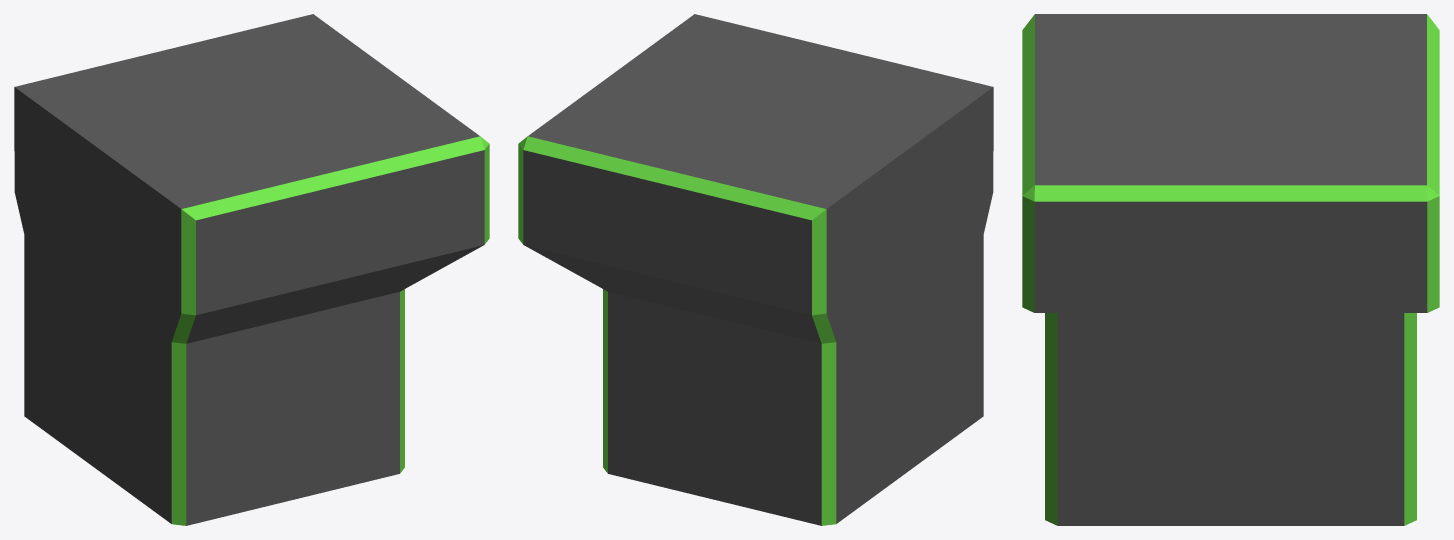
The model's file is generator_mk2.glb.
The picture shows the model from 3 angles, left to right: view 1: azimuth 30°, elevation 25°; view 2: azimuth 150°, elevation 25°; view 3: azimuth 270°, elevation 25°; orthographic projection. The views are drawn at different scales.
Visible parts, largest first — view 1: generator; view 2: generator; view 3: generator.
Part boxes in pixels (left/top/right/bottom): generator: left=14, top=14, right=489, bottom=525; generator: left=518, top=14, right=993, bottom=525; generator: left=1022, top=14, right=1439, bottom=525.
Size of the model in its own units: 1 by 1 by 1.
